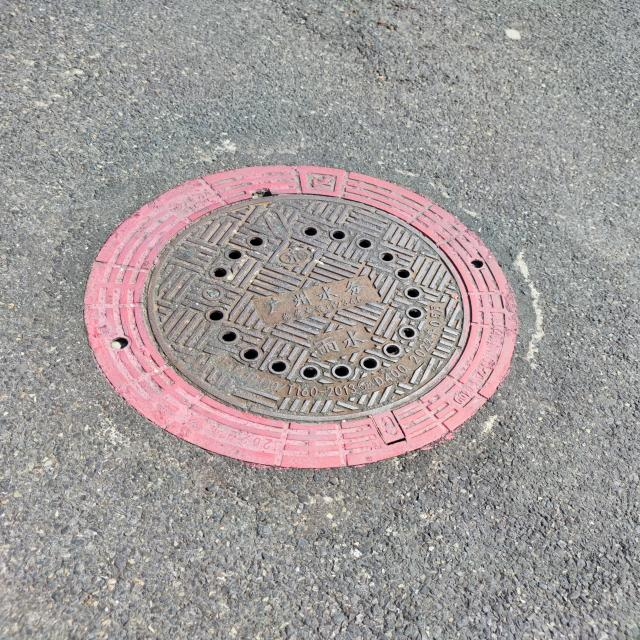Good: (72, 161, 535, 473)
